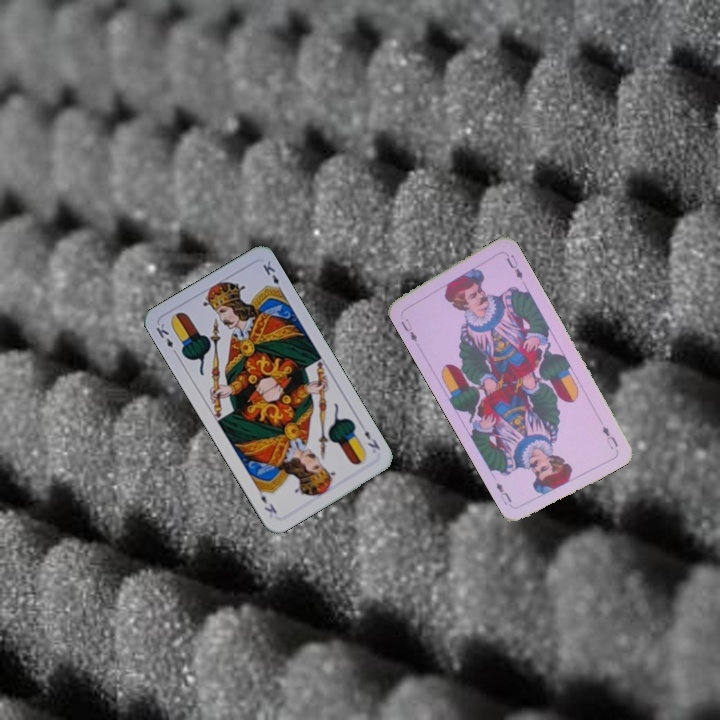EK: (152, 319, 180, 358), (360, 426, 383, 452)
EU: (397, 314, 420, 345), (598, 422, 621, 452)
